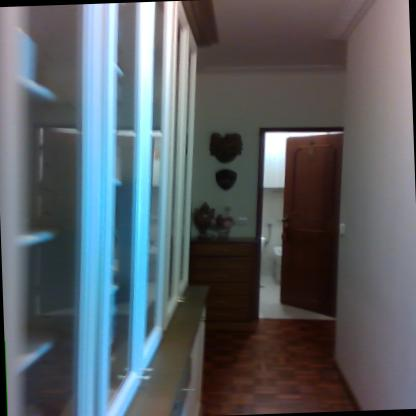semi: (245, 117, 356, 337)
